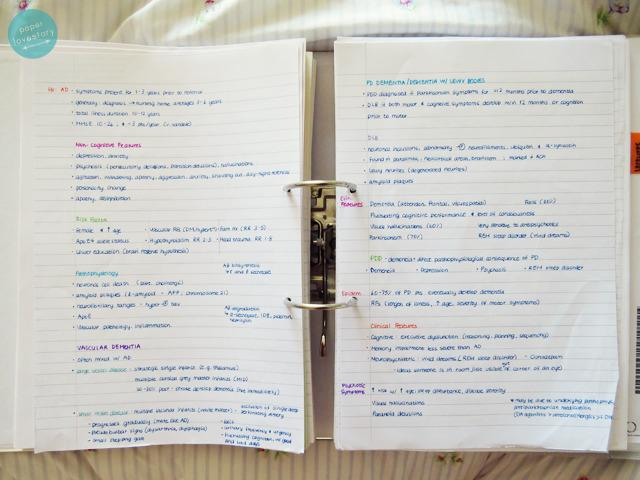paper: (0, 37, 639, 450)
